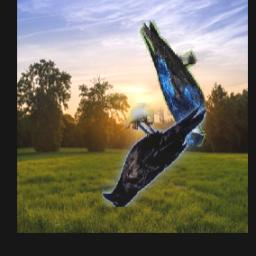Crow: (102, 102, 206, 207)
Swallow: (141, 20, 206, 147)
